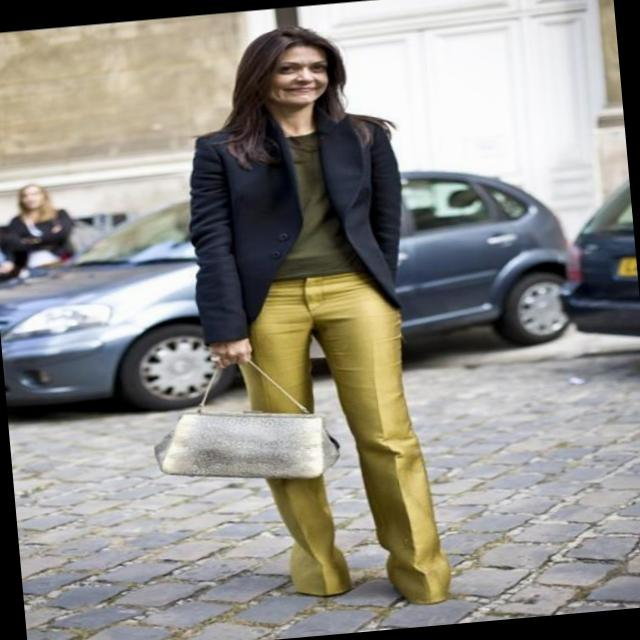pants: (228, 266, 450, 618)
sweater: (181, 105, 416, 346)
